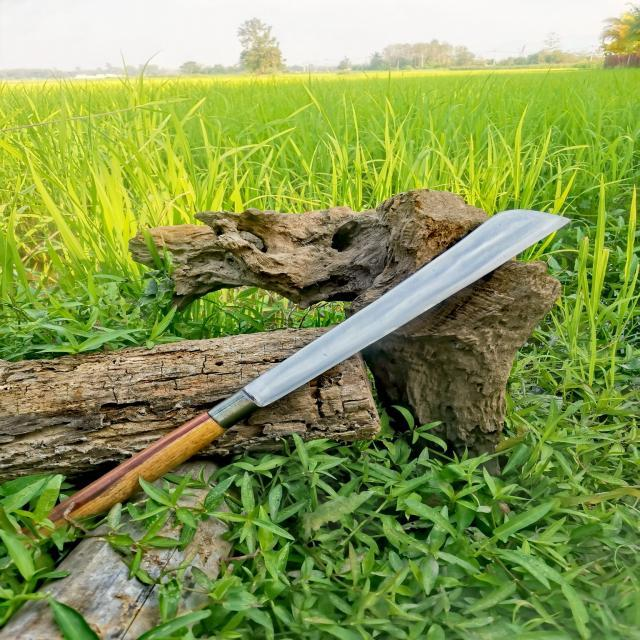eto: (32, 195, 587, 546)
